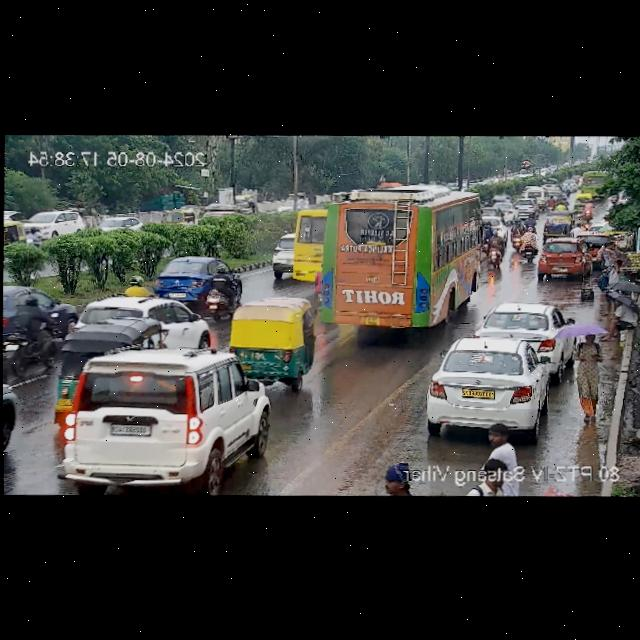bus: (318, 186, 477, 331), (296, 208, 326, 283), (580, 169, 610, 196)
car: (54, 338, 276, 493), (427, 332, 553, 429), (41, 314, 150, 421), (224, 295, 324, 395), (80, 294, 217, 349), (480, 302, 570, 361), (2, 280, 78, 332), (158, 257, 239, 291), (534, 240, 590, 277), (24, 209, 83, 237), (270, 234, 294, 275), (96, 215, 141, 233), (541, 214, 569, 238), (163, 209, 197, 227), (126, 274, 152, 296), (3, 220, 21, 247), (480, 215, 508, 232), (524, 185, 545, 206), (491, 203, 519, 218), (573, 191, 592, 213), (514, 199, 540, 214), (478, 206, 503, 221)
motorcycle: (7, 297, 51, 374), (207, 266, 236, 317), (487, 231, 505, 267), (520, 236, 536, 262), (26, 229, 43, 246), (582, 199, 593, 222), (524, 216, 535, 230), (546, 194, 555, 209), (557, 200, 565, 209), (556, 192, 563, 199), (562, 197, 568, 202)
person: (574, 334, 608, 428), (484, 425, 520, 496), (607, 297, 636, 333), (603, 261, 622, 313)
